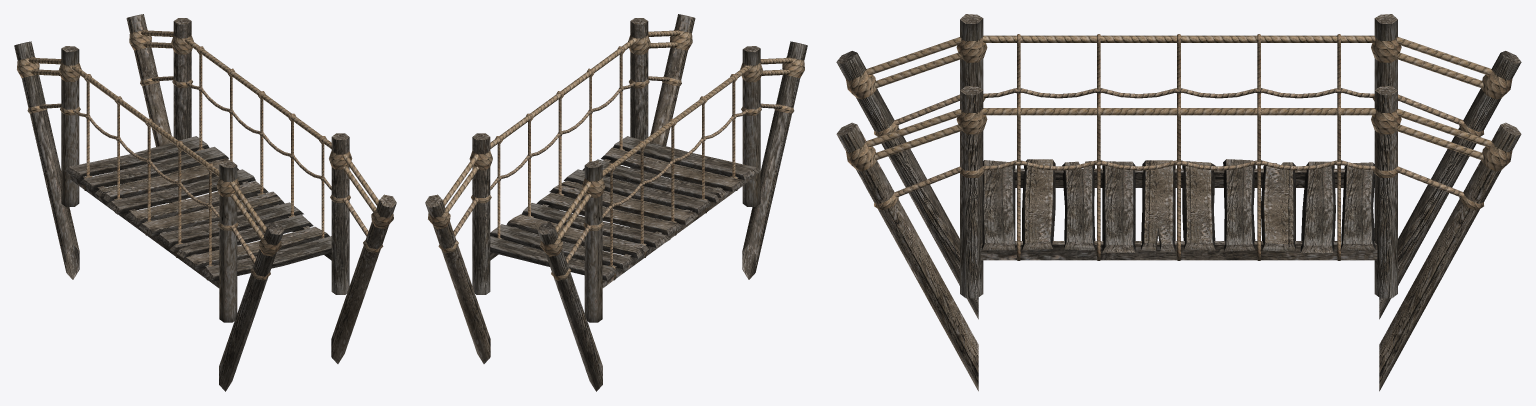
Rendered from RopeBridgeDA.dae.
The picture shows the model from 3 angles, left to right: view 1: azimuth 30°, elevation 25°; view 2: azimuth 150°, elevation 25°; view 3: azimuth 270°, elevation 25°; orthographic projection. The views are drawn at different scales.
Visible parts, largest first — view 1: RopeBridgeDA; view 2: RopeBridgeDA; view 3: RopeBridgeDA.
Boxes of the visible parts, bbox=[...] form: RopeBridgeDA: bbox=[14, 14, 396, 391]; RopeBridgeDA: bbox=[425, 14, 807, 391]; RopeBridgeDA: bbox=[836, 14, 1521, 391].
Size of what is drawn, in the model's own units: 2.14 by 3.32 by 6.84.
Materials: 1 (1 with a texture image).
